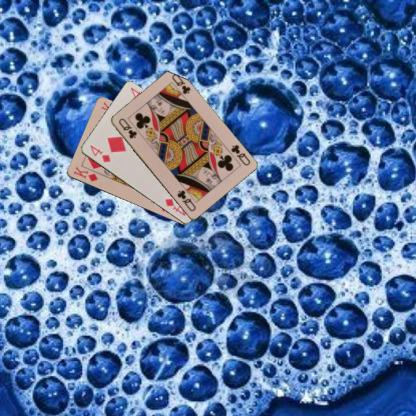4d: (87, 142, 112, 164)
Kd: (70, 164, 99, 183)
Qc: (228, 142, 251, 167), (116, 115, 138, 140)
